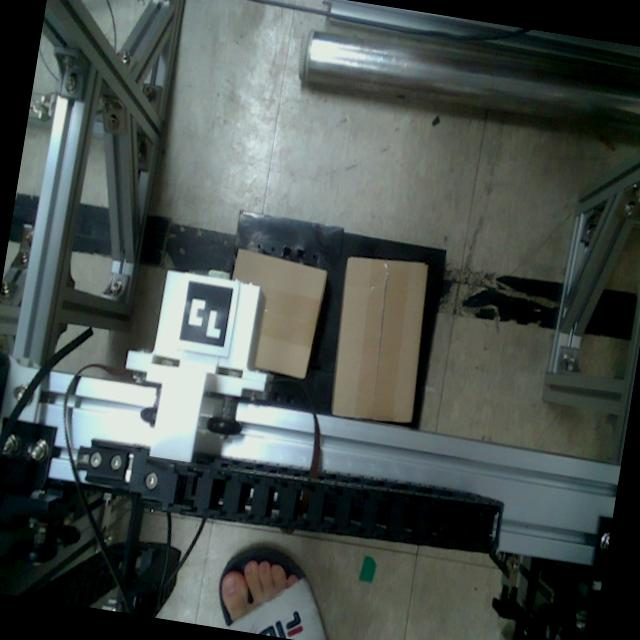box: (318, 248, 444, 432)
